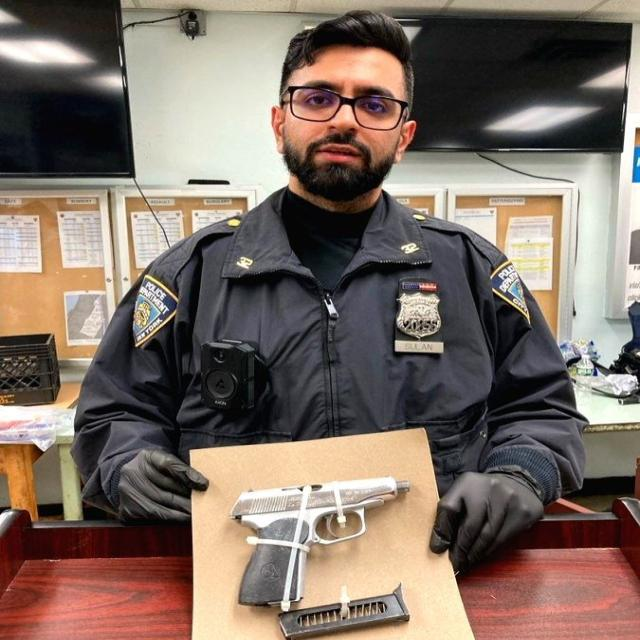police: (76, 0, 535, 474)
